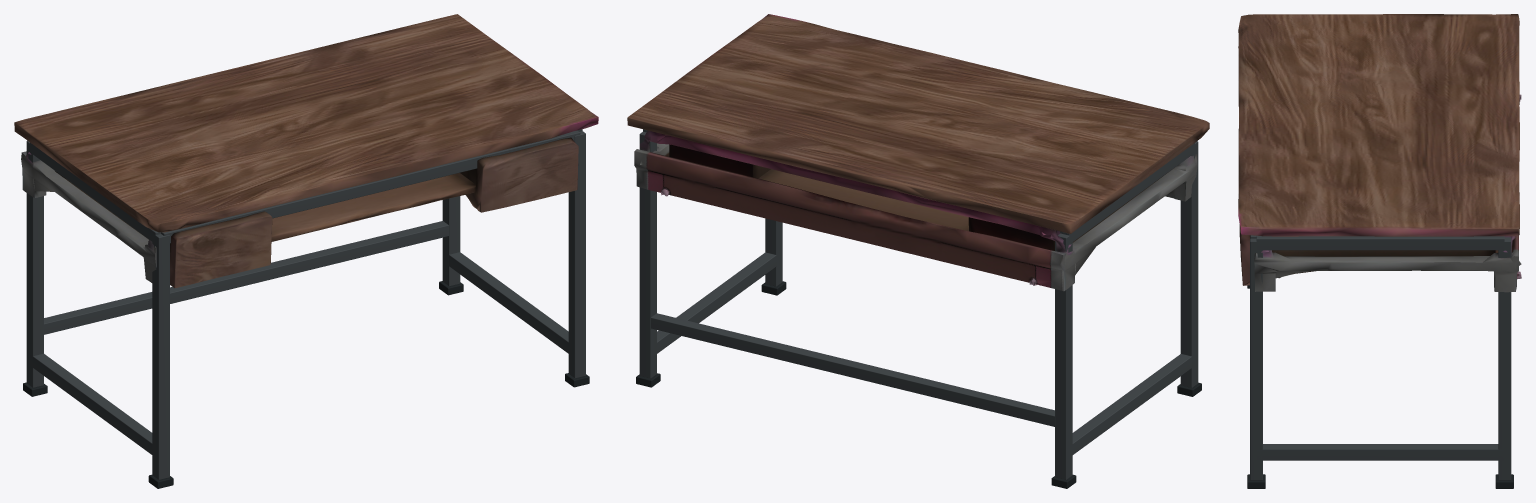
The model's file is 22_office_desk.glb.
3 renders of one model, left to right at view 1: azimuth 30°, elevation 25°; view 2: azimuth 150°, elevation 25°; view 3: azimuth 270°, elevation 25°, orthographic.
Parts seen in each view (by area): view 1: TRIPO_RETAINED_WOOD_TOP_DRAWERS, LOCAL_desk_rear_crossbar, LOCAL_desk_square_tube_leg.001, LOCAL_desk_square_tube_leg.003, LOCAL_desk_front_upper_rail, LOCAL_desk_square_tube_leg, LOCAL_desk_side_lower_rail.001, LOCAL_desk_side_lower_rail, LOCAL_desk_side_upper_rail, LOCAL_desk_square_tube_leg.002; view 2: TRIPO_RETAINED_WOOD_TOP_DRAWERS, LOCAL_desk_rear_crossbar, LOCAL_desk_square_tube_leg.001, LOCAL_desk_square_tube_leg, LOCAL_desk_square_tube_leg.002, LOCAL_desk_side_lower_rail, LOCAL_desk_side_lower_rail.001, LOCAL_desk_side_upper_rail, LOCAL_desk_square_tube_leg.003; view 3: TRIPO_RETAINED_WOOD_TOP_DRAWERS, LOCAL_desk_side_lower_rail.001, LOCAL_desk_side_upper_rail.001, LOCAL_desk_square_tube_leg.002, LOCAL_desk_square_tube_leg.003.
Part boxes in pixels (x1,y1,x2,y2): TRIPO_RETAINED_WOOD_TOP_DRAWERS: (14, 14, 598, 288); LOCAL_desk_rear_crossbar: (44, 221, 448, 334); LOCAL_desk_square_tube_leg.001: (152, 234, 169, 479); LOCAL_desk_square_tube_leg.003: (568, 131, 585, 378); LOCAL_desk_front_upper_rail: (161, 130, 580, 243); LOCAL_desk_square_tube_leg: (26, 140, 43, 387); LOCAL_desk_side_lower_rail.001: (446, 252, 569, 353); LOCAL_desk_side_lower_rail: (30, 353, 154, 454); LOCAL_desk_side_upper_rail: (30, 142, 160, 243); LOCAL_desk_square_tube_leg.002: (442, 196, 460, 286); TRIPO_RETAINED_WOOD_TOP_DRAWERS: (627, 14, 1209, 291); LOCAL_desk_rear_crossbar: (651, 313, 1054, 426); LOCAL_desk_square_tube_leg.001: (1180, 141, 1198, 387); LOCAL_desk_square_tube_leg: (1055, 233, 1072, 479); LOCAL_desk_square_tube_leg.002: (639, 131, 656, 378); LOCAL_desk_side_lower_rail: (1070, 354, 1194, 456); LOCAL_desk_side_lower_rail.001: (657, 252, 779, 353); LOCAL_desk_side_upper_rail: (1059, 143, 1194, 243); LOCAL_desk_square_tube_leg.003: (765, 218, 782, 286); TRIPO_RETAINED_WOOD_TOP_DRAWERS: (1238, 14, 1521, 292); LOCAL_desk_side_lower_rail.001: (1257, 444, 1503, 460); LOCAL_desk_side_upper_rail.001: (1256, 235, 1504, 250); LOCAL_desk_square_tube_leg.002: (1498, 237, 1511, 480); LOCAL_desk_square_tube_leg.003: (1250, 236, 1262, 480).
Bounding box in the file's own units: 1.25 × 0.72 × 0.7.
Materials: 3 (1 with a texture image).
